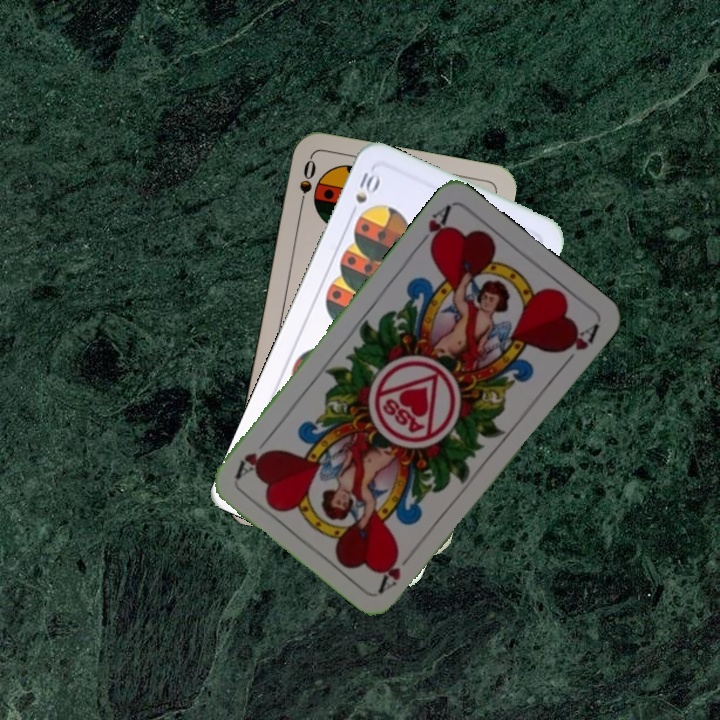HA: (374, 544, 419, 595), (411, 201, 454, 253)
S10: (345, 166, 383, 221)
SO: (295, 155, 319, 214)
